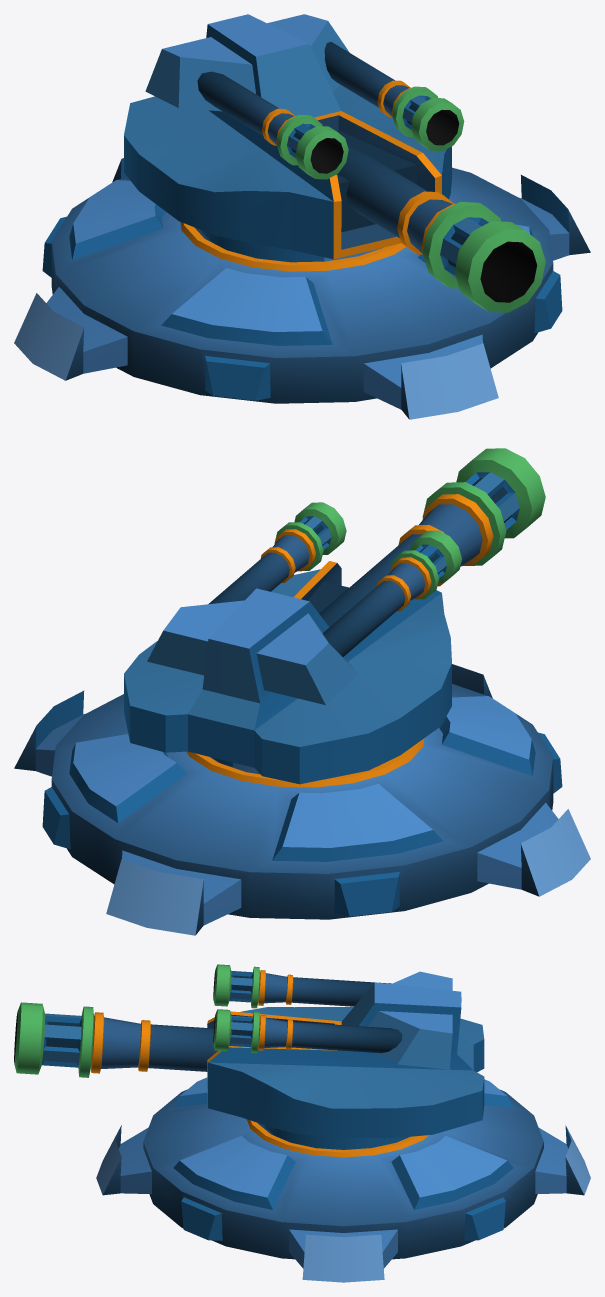
File: Grenade-gun_02.fbx
3 renders of one model, top to bottom at view 1: azimuth 30°, elevation 25°; view 2: azimuth 150°, elevation 25°; view 3: azimuth 270°, elevation 25°, orthographic. The views are drawn at different scales.
Visible parts, largest first — view 1: Grenade-gun_Platform, Grenade-gun_02; view 2: Grenade-gun_Platform, Grenade-gun_02; view 3: Grenade-gun_Platform, Grenade-gun_02.
Part boxes in pixels (x1,y1,x2,y2): Grenade-gun_Platform: (14, 158, 590, 419); Grenade-gun_02: (124, 14, 545, 312); Grenade-gun_Platform: (14, 664, 590, 935); Grenade-gun_02: (124, 448, 545, 784); Grenade-gun_Platform: (96, 1077, 590, 1282); Grenade-gun_02: (14, 964, 484, 1149).
Bounding box in the file's own units: 2.47 × 1.05 × 2.88.
